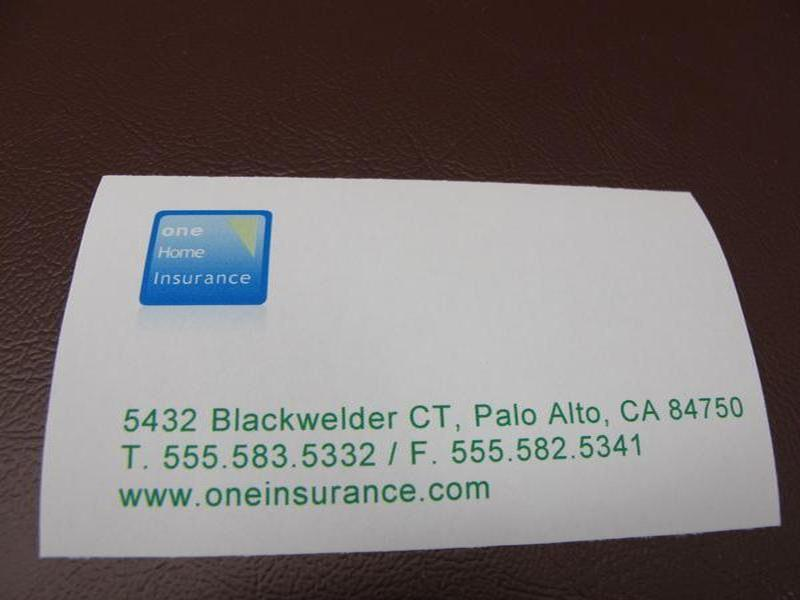card: (42, 170, 783, 566)
